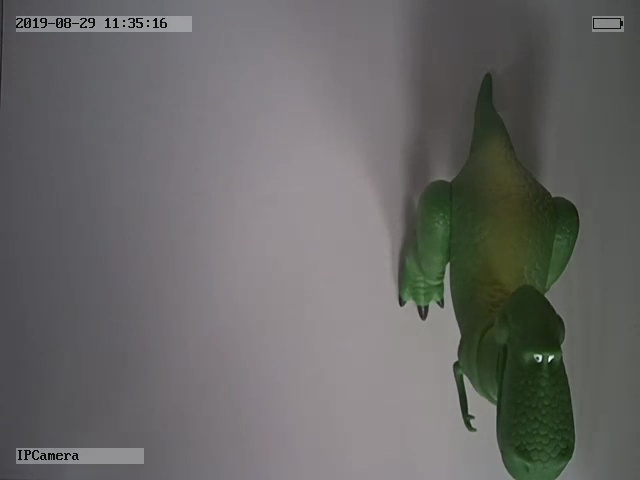rex: (396, 72, 582, 480)
